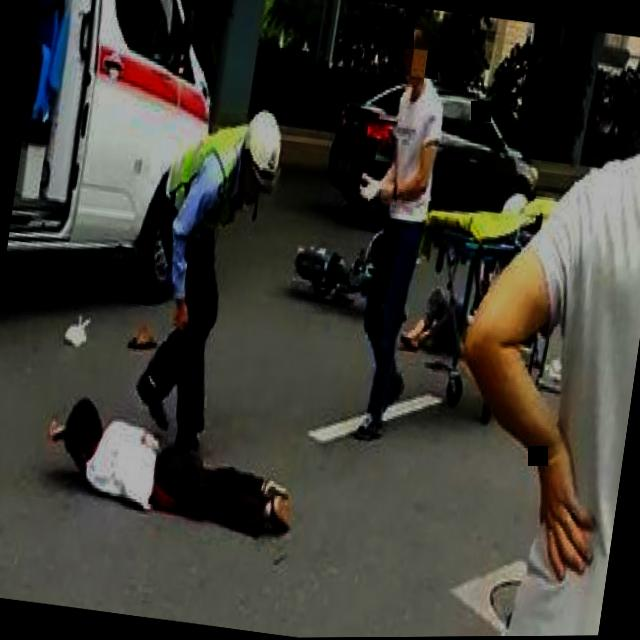Fall-Detected: (31, 375, 301, 543)
